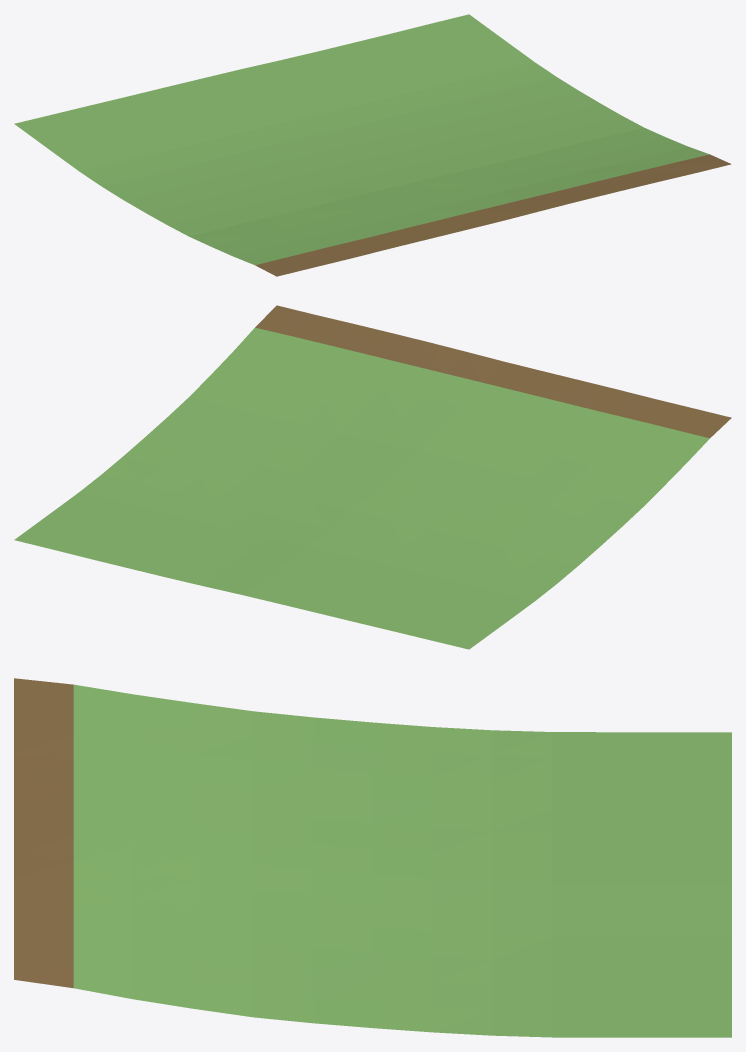
Rendered from chunk_-2_-1.obj.
3 renders of one model, top to bottom at view 1: azimuth 30°, elevation 25°; view 2: azimuth 150°, elevation 25°; view 3: azimuth 270°, elevation 25°, orthographic. The views are drawn at different scales.
Parts seen in each view (by area): view 1: grass_b, dirt; view 2: grass_b, dirt; view 3: grass_b, dirt.
Boxes of the visible parts, x1,y1,x2,y2 form: grass_b: (14,14,709,264); dirt: (255,154,731,276); grass_b: (14,327,709,649); dirt: (255,305,731,438); grass_b: (73,684,731,1037); dirt: (14,678,73,988).
Bounding box in the file's own units: 16 × 1.44 × 16.
